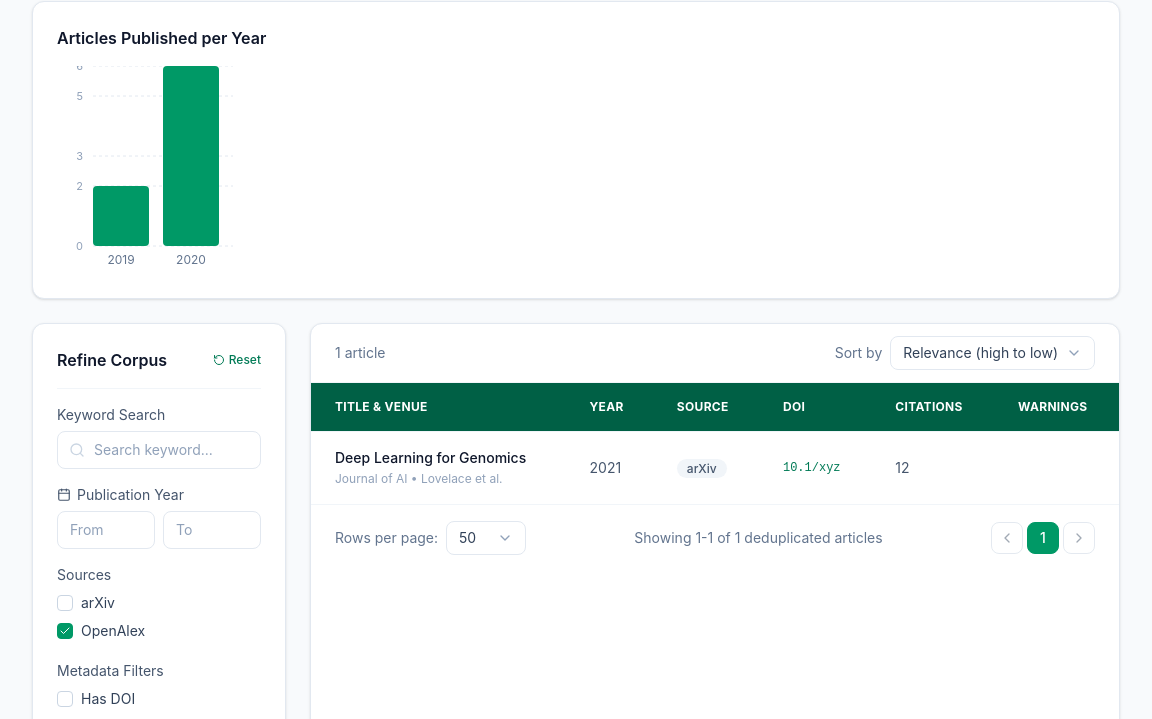
Test: ResultsPage - filters › reflects an active filter and Reset clears it
This screenshot has width=1152, height=719.
(page scrolled)
Expected: the text "Deep Learning for Genomics" is shown, [335,448,542,468]
Expected: the checkbox labelled "OpenAlex" is checked, [57,622,145,639]
Click the button "Reset".
click(237, 360)  # box [213,352,261,368]
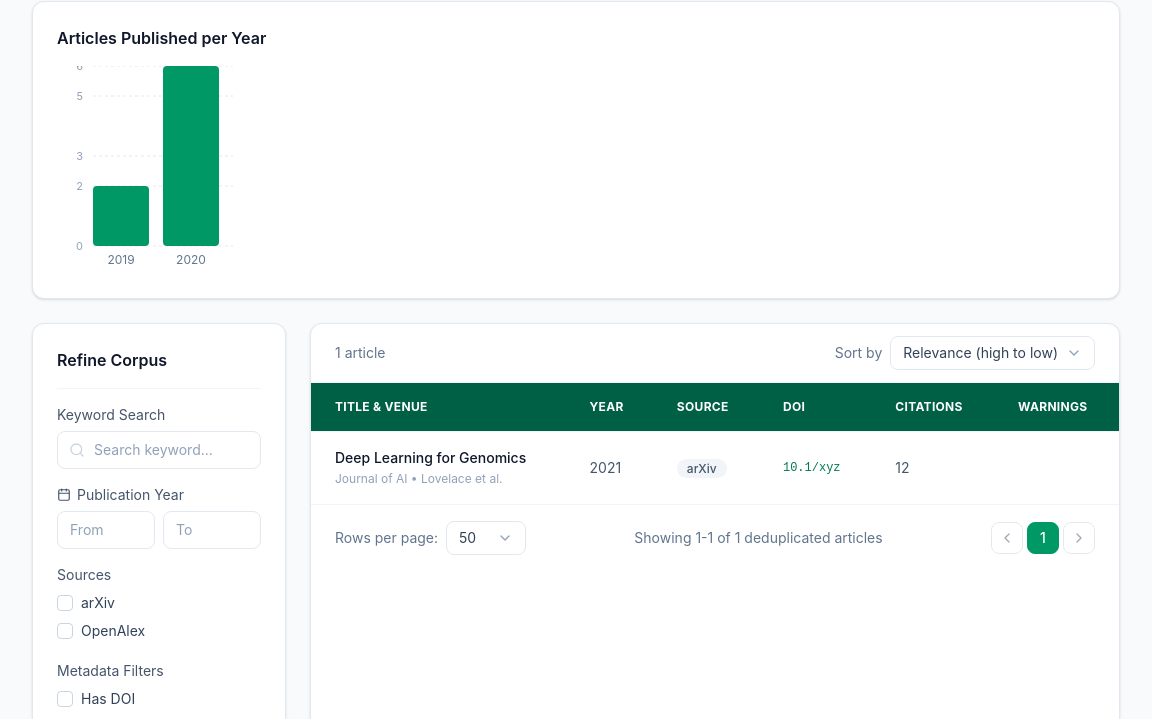
Expected: the button "Reset" is gone
